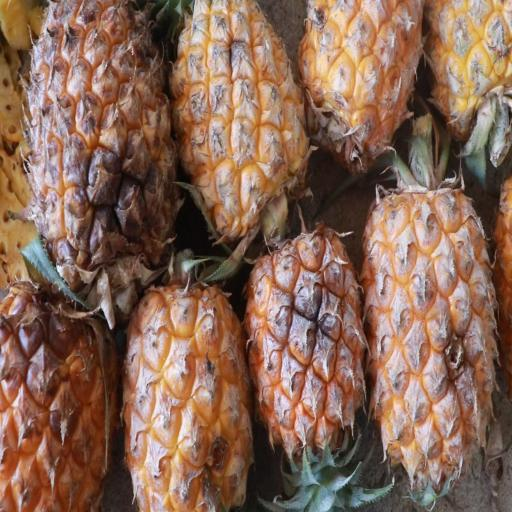Pineapple - v8 v1: (22, 0, 176, 295), (360, 178, 495, 497), (168, 0, 311, 246), (118, 266, 252, 512), (241, 221, 368, 459), (0, 293, 126, 512), (285, 1, 415, 173)
